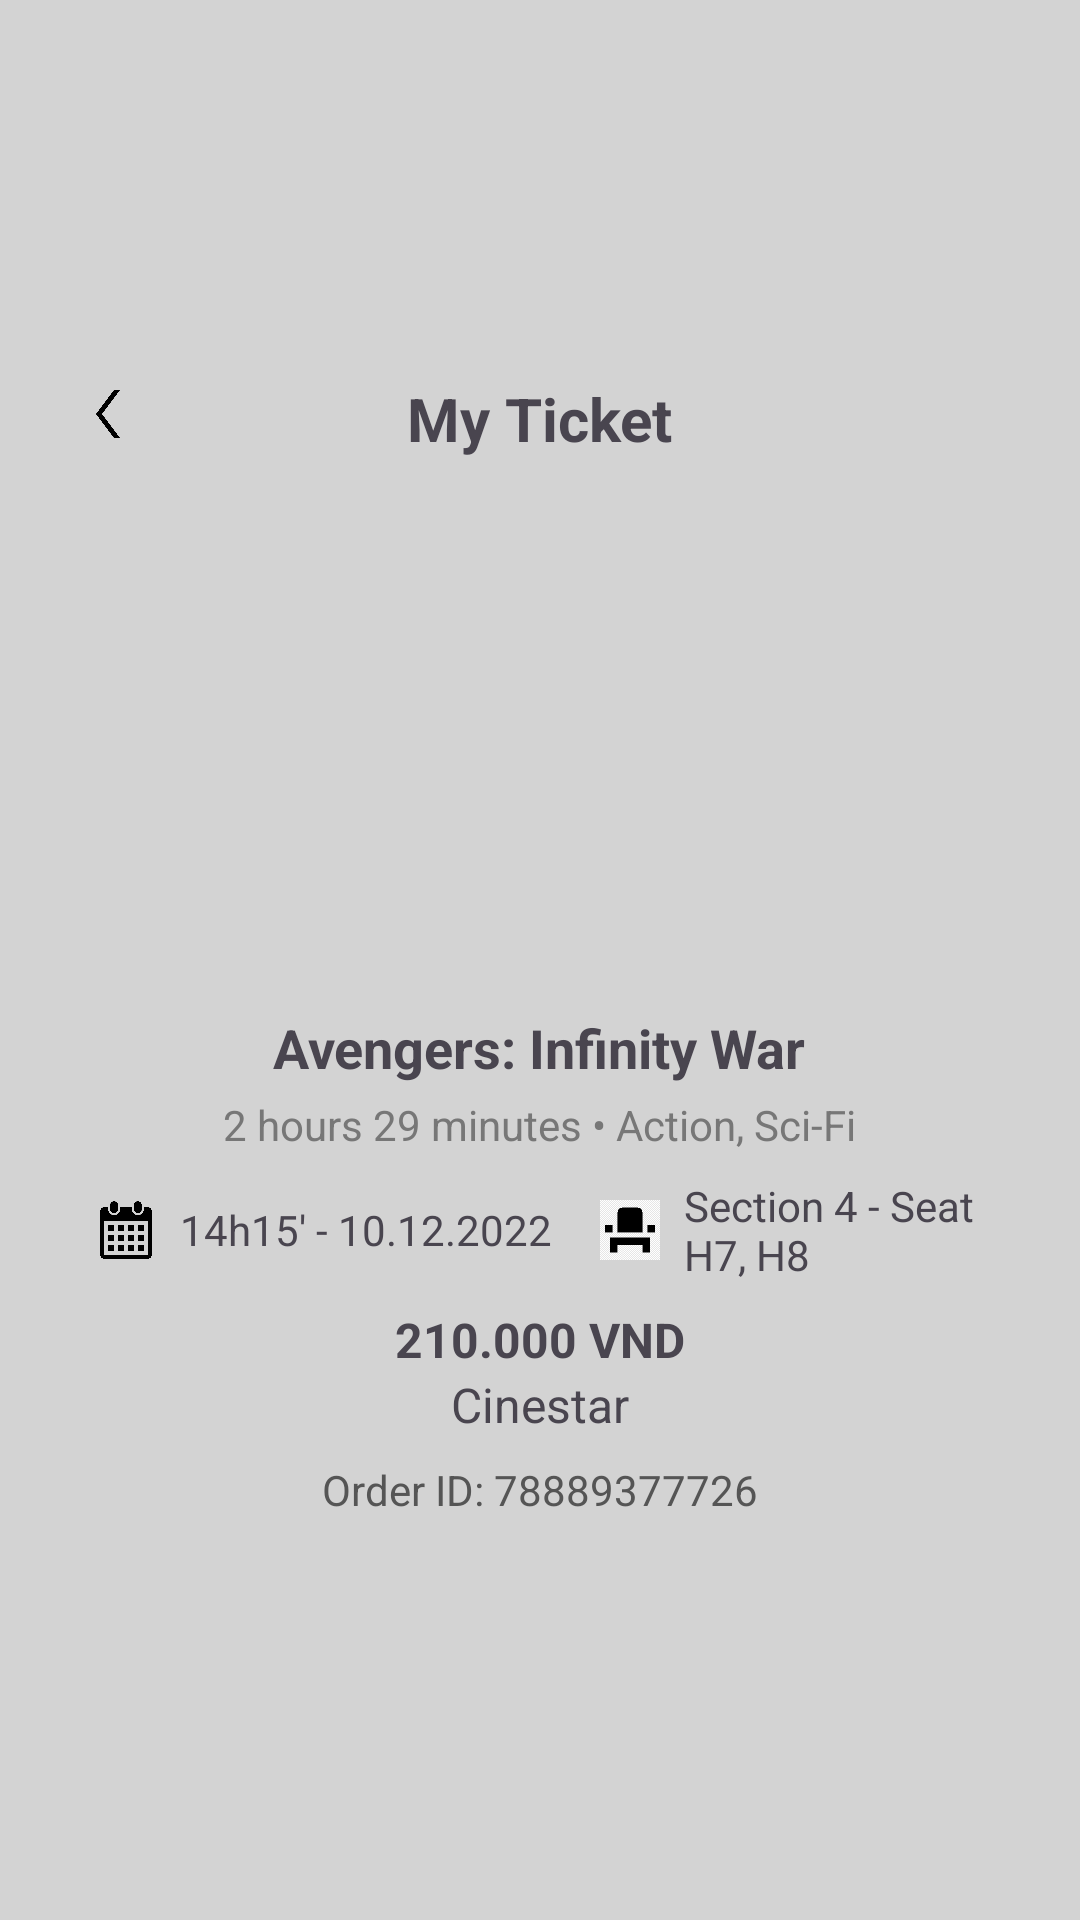

Named icons in this screenshot (1080px×1920px) and their bounding boxes, [x1, y1, x2, y2]:
Back Button: [96, 390, 120, 438]
calendar: [100, 1201, 152, 1259]
